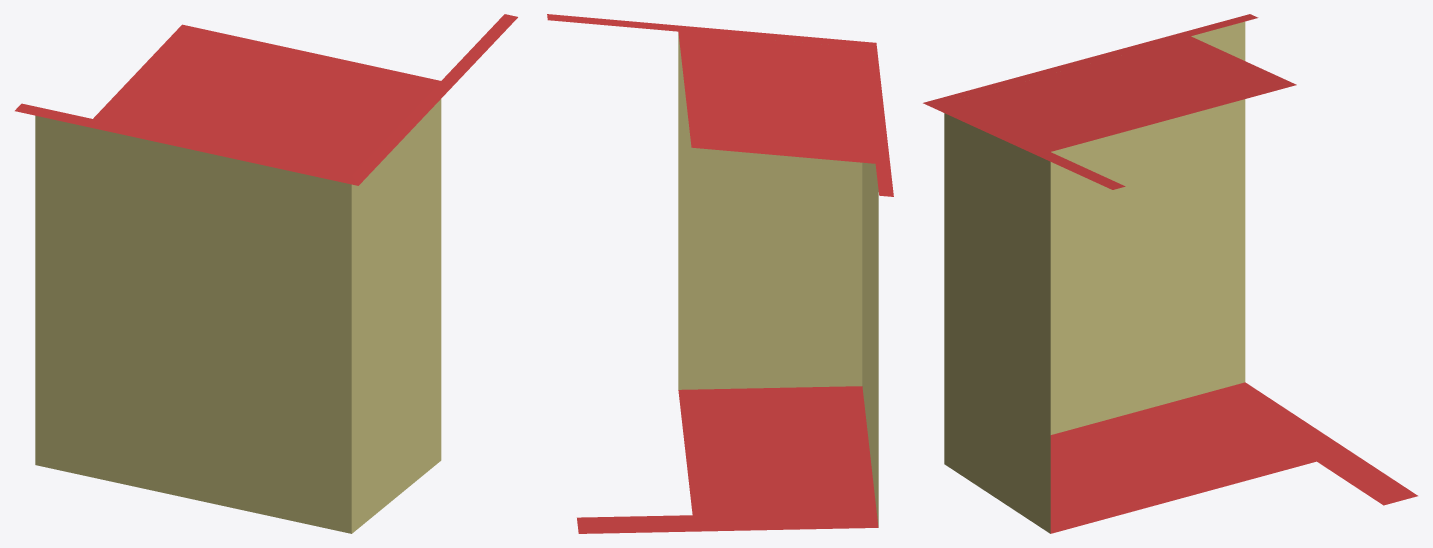
The picture shows the model from 3 angles, left to right: view 1: azimuth 30°, elevation 25°; view 2: azimuth 150°, elevation 25°; view 3: azimuth 270°, elevation 25°; orthographic projection. The views are drawn at different scales.
Bounding box in the file's own units: 8.04 × 7.88 × 6.96.
